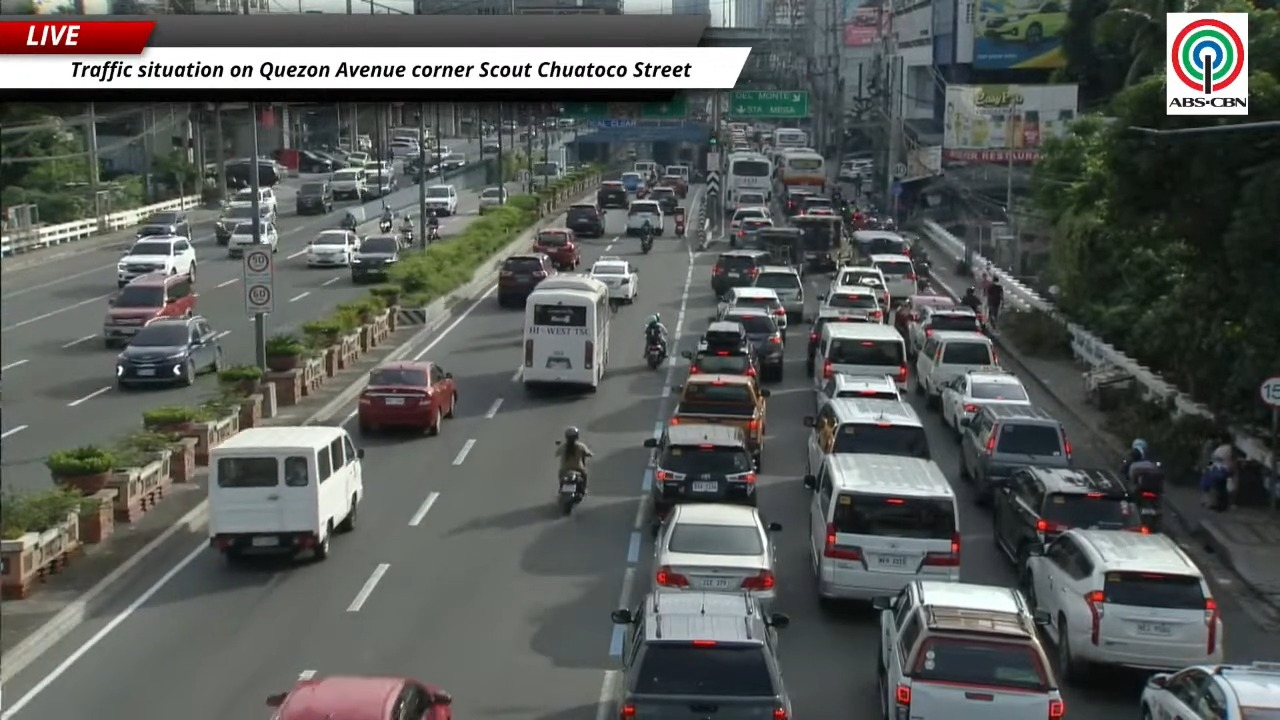bus: (522, 274, 611, 391), (724, 152, 772, 211), (779, 151, 826, 190), (771, 128, 808, 149)
car: (1024, 529, 1222, 683), (874, 580, 1065, 719), (611, 589, 791, 719), (992, 466, 1148, 571), (655, 503, 781, 606), (804, 398, 930, 492), (644, 423, 756, 522), (960, 405, 1072, 503), (1141, 661, 1279, 719), (267, 676, 452, 719), (116, 316, 221, 388), (357, 361, 457, 434), (103, 273, 195, 348), (915, 332, 998, 407), (941, 371, 1030, 434), (717, 307, 784, 381), (681, 321, 758, 376), (806, 309, 865, 376), (117, 237, 195, 287), (982, 0, 1067, 45), (907, 306, 981, 356), (718, 285, 787, 338), (496, 252, 555, 306), (814, 374, 900, 409), (753, 265, 804, 321), (711, 249, 769, 296), (830, 265, 889, 309), (894, 294, 955, 336), (869, 254, 917, 304), (819, 285, 883, 322), (350, 235, 399, 283), (590, 256, 637, 303), (531, 227, 580, 270), (306, 229, 359, 266), (852, 230, 911, 262), (227, 223, 278, 257), (215, 205, 252, 245), (136, 211, 190, 238), (626, 199, 664, 236), (565, 202, 605, 237), (295, 180, 333, 214), (730, 218, 773, 248), (330, 165, 365, 200), (730, 206, 770, 233), (362, 172, 397, 199), (426, 185, 457, 215), (783, 187, 815, 216), (647, 185, 678, 214), (596, 182, 628, 208), (478, 186, 507, 214), (298, 150, 333, 173), (659, 173, 687, 197), (734, 190, 767, 210), (620, 173, 646, 198), (799, 194, 833, 213), (390, 139, 420, 157), (257, 188, 278, 213), (797, 205, 835, 218), (439, 153, 466, 171), (346, 149, 370, 168), (481, 141, 501, 154)
motorcycle: (1122, 462, 1164, 532), (557, 471, 584, 514), (645, 340, 666, 370), (914, 259, 930, 290), (674, 208, 685, 237), (399, 227, 414, 248), (339, 215, 357, 230), (641, 233, 653, 253), (427, 226, 439, 244), (379, 220, 391, 233)
